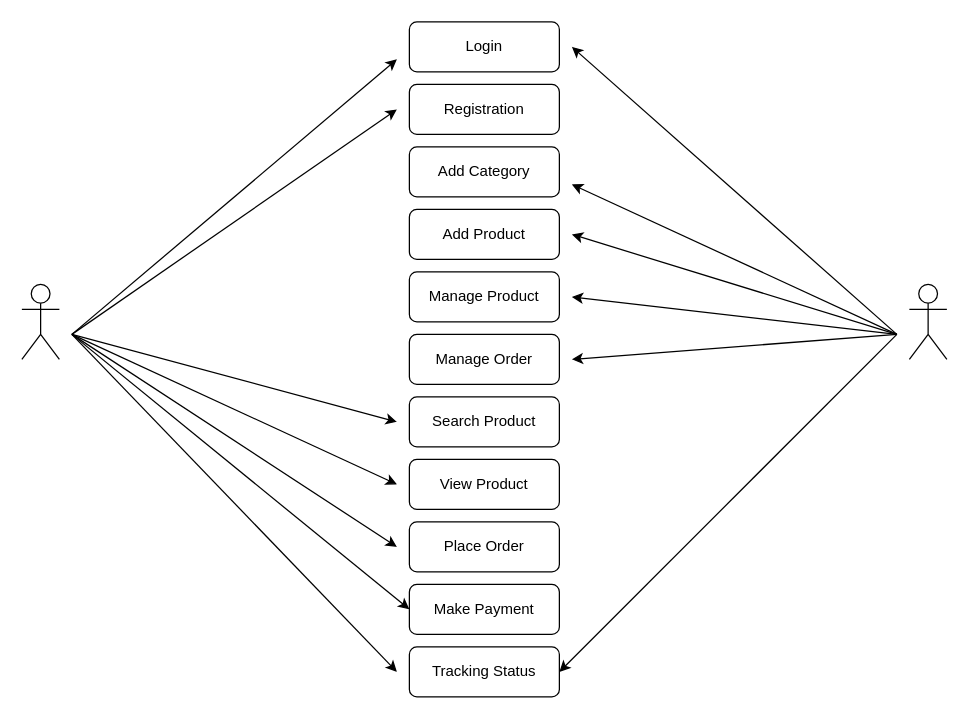
The diagram is 971 pixels wide and 719 high, and some of its shapes have lost their labels. Here are the shapes that lost their labels. From the top down, the centre of each, then its label:
At [40,321]: "User".
At [927,321]: "Admin".
